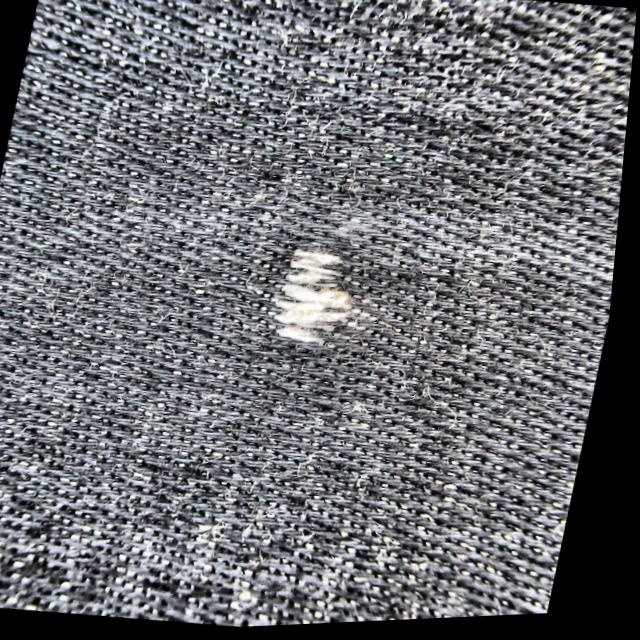Hole: (273, 247, 357, 349)
